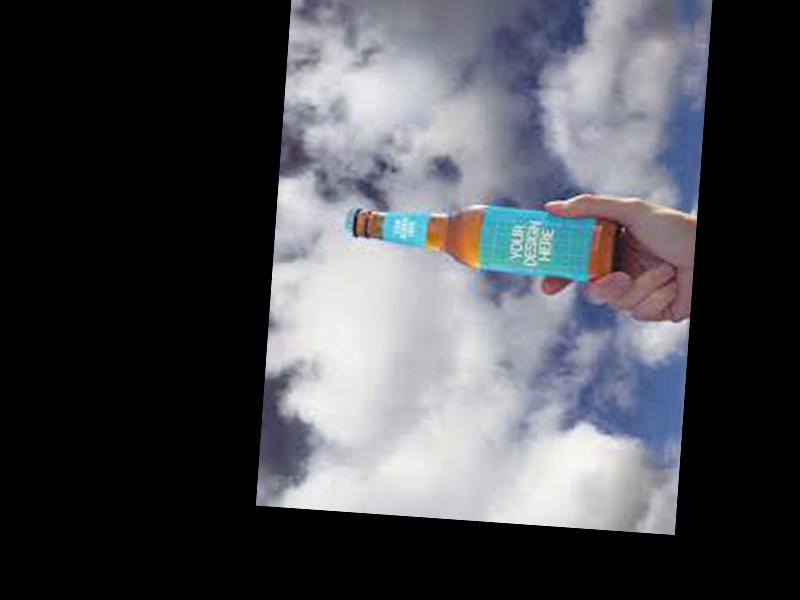Beer: (344, 195, 621, 277)
